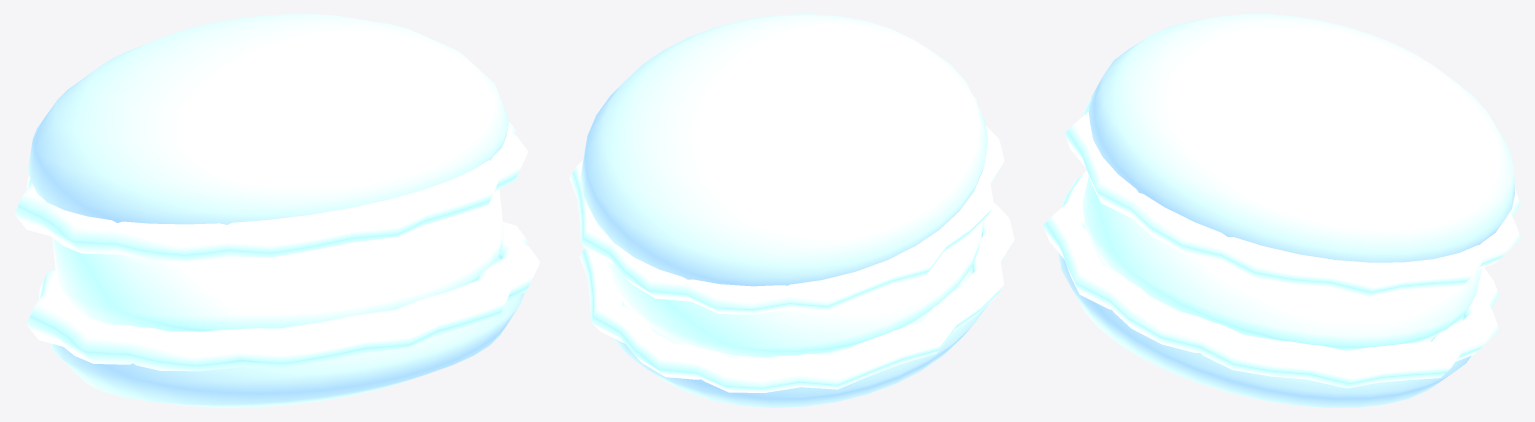
The model's file is props__CandyMacaron.glb.
3 views of the same model, side by side, from view 1: azimuth 30°, elevation 25°; view 2: azimuth 150°, elevation 25°; view 3: azimuth 270°, elevation 25° (orthographic). The views are drawn at different scales.
Parts seen in each view (by area): view 1: CandyMacaron; view 2: CandyMacaron; view 3: CandyMacaron.
Part boxes in pixels (x1=…): CandyMacaron: x1=14, y1=14, x2=540, y2=407; CandyMacaron: x1=569, y1=14, x2=1014, y2=407; CandyMacaron: x1=1043, y1=14, x2=1520, y2=407.
Size of the model in its own units: 7.52 by 5.59 by 7.78.
